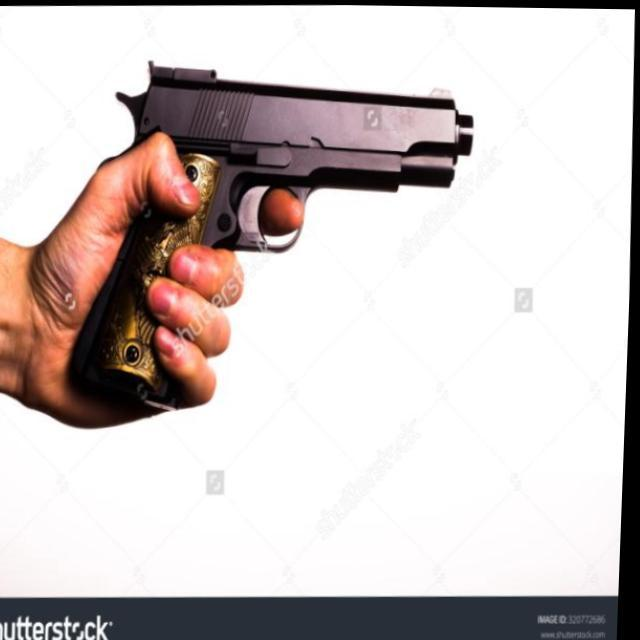weapon: (67, 53, 481, 416)
